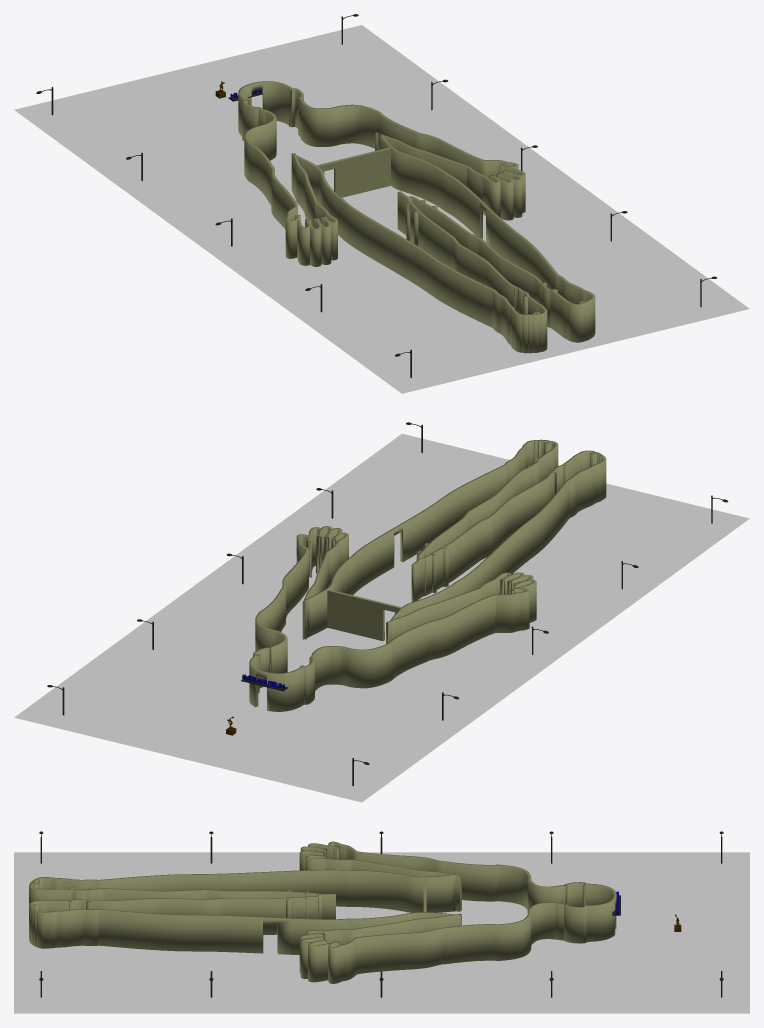
File: muro_humano.obj
The picture shows the model from 3 angles, top to bottom: view 1: azimuth 30°, elevation 25°; view 2: azimuth 150°, elevation 25°; view 3: azimuth 270°, elevation 25°; orthographic projection. The views are drawn at different scales.
Visible parts, largest first — view 1: piso-texturizado.002_Plane.005, Muro.005_BezierCurve.006, Cube.006_Cube.010, Farola.003_Pole_Cylinder.004; view 2: piso-texturizado.002_Plane.005, Muro.005_BezierCurve.006, Cube.006_Cube.010, Farola.003_Pole_Cylinder.004; view 3: piso-texturizado.002_Plane.005, Muro.005_BezierCurve.006, Farola.003_Pole_Cylinder.004.
Part boxes in pixels (x1,y1,x2,y2): piso-texturizado.002_Plane.005: (14,25,749,393); Muro.005_BezierCurve.006: (238,81,595,353); Cube.006_Cube.010: (317,147,391,197); Farola.003_Pole_Cylinder.004: (36,14,716,377); piso-texturizado.002_Plane.005: (14,433,749,802); Muro.005_BezierCurve.006: (249,439,606,711); Cube.006_Cube.010: (327,589,402,641); Farola.003_Pole_Cylinder.004: (47,422,728,786); piso-texturizado.002_Plane.005: (14,852,749,1013); Muro.005_BezierCurve.006: (29,841,616,983); Farola.003_Pole_Cylinder.004: (39,831,723,997).
Size of the model in its own units: 56.6 by 5.79 by 109.
